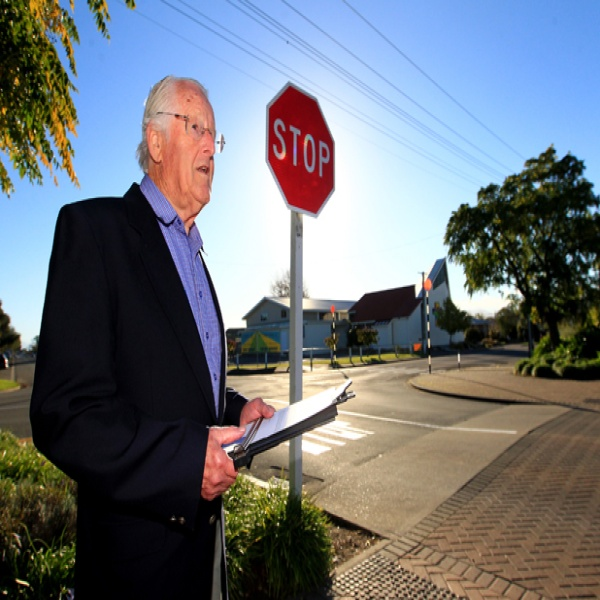stop: (258, 88, 347, 215)
